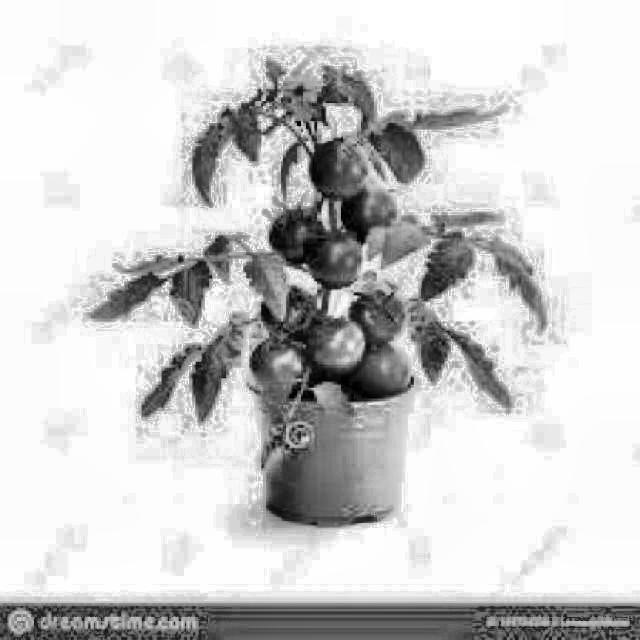plants: (82, 43, 556, 531)
